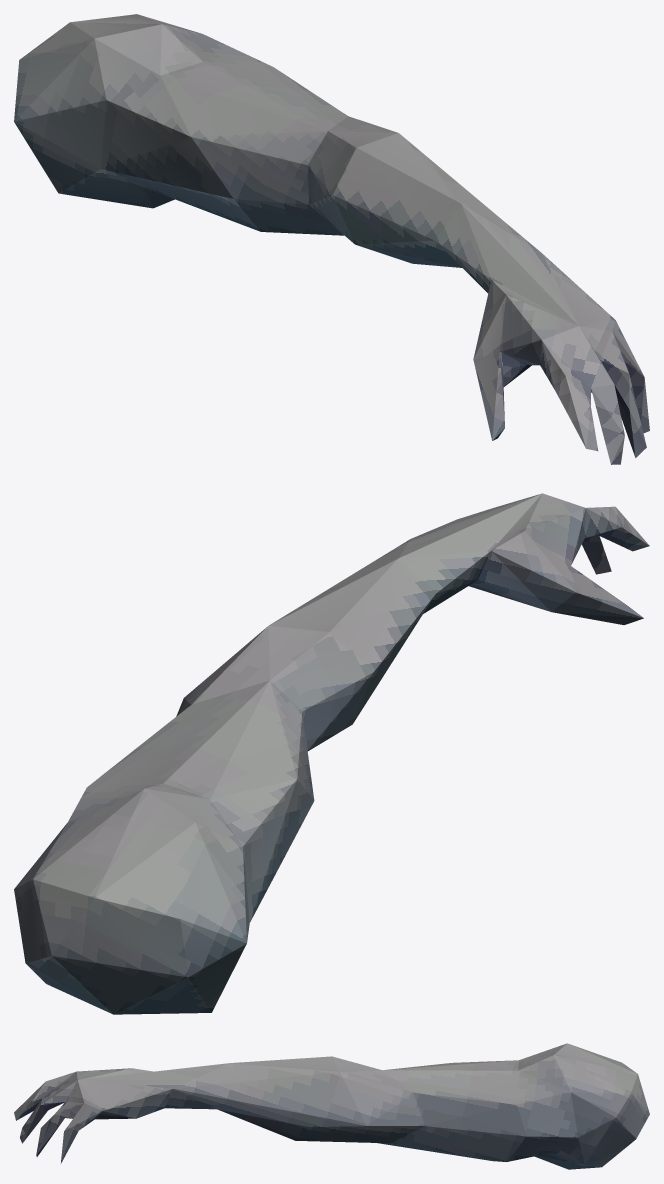
The model's file is item_mannequin_arm_left.glb.
3 renders of one model, top to bottom at view 1: azimuth 30°, elevation 25°; view 2: azimuth 150°, elevation 25°; view 3: azimuth 270°, elevation 25°, orthographic. The views are drawn at different scales.
Parts seen in each view (by area): view 1: arms_LP; view 2: arms_LP; view 3: arms_LP.
Boxes of the visible parts, <box> form: arms_LP: <box>14,14,649,464</box>; arms_LP: <box>14,493,649,1014</box>; arms_LP: <box>14,1043,649,1169</box>.
Bounding box in the file's own units: 0.2329 × 0.175 × 0.8809.
1 material, 1 textured.
